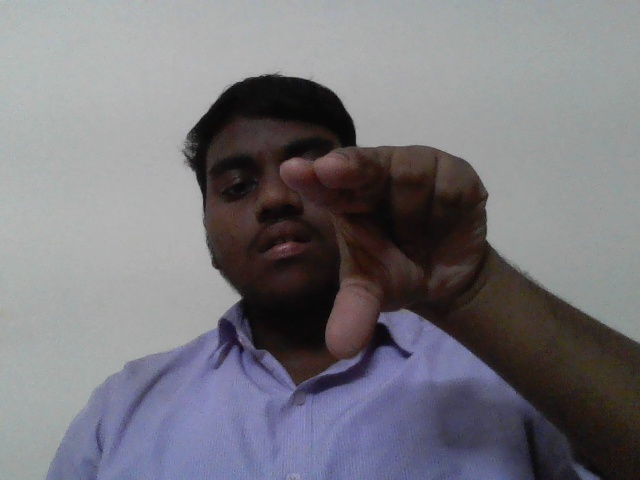No: (272, 141, 505, 381)
